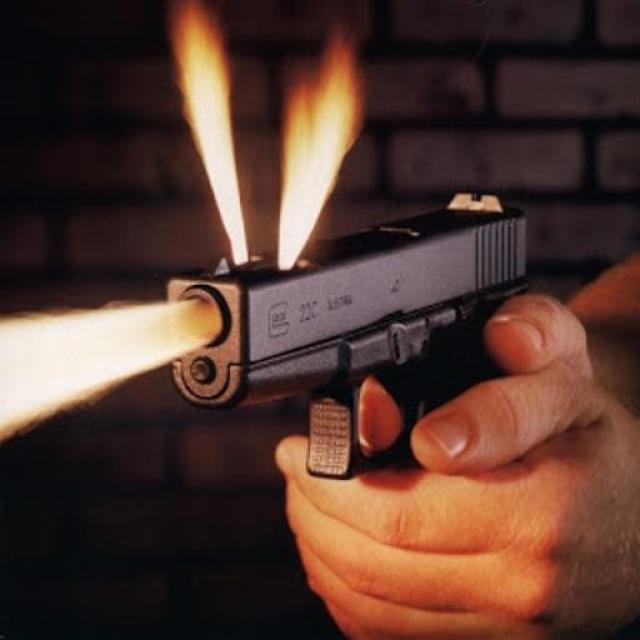pistol: (160, 174, 537, 494)
